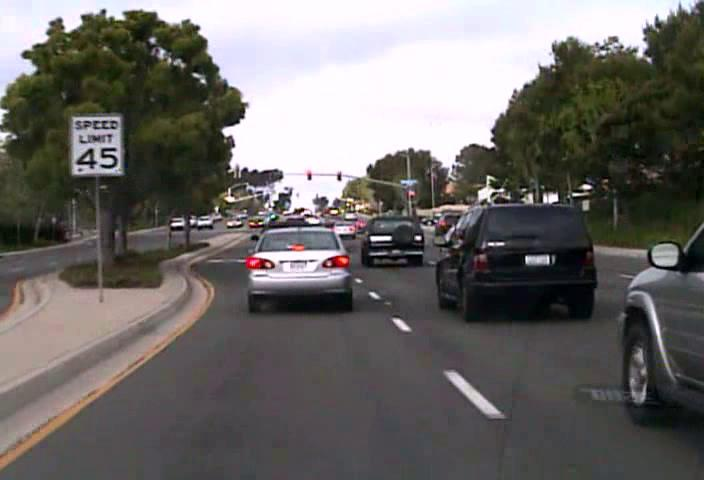speedLimit45: (69, 113, 124, 177)
